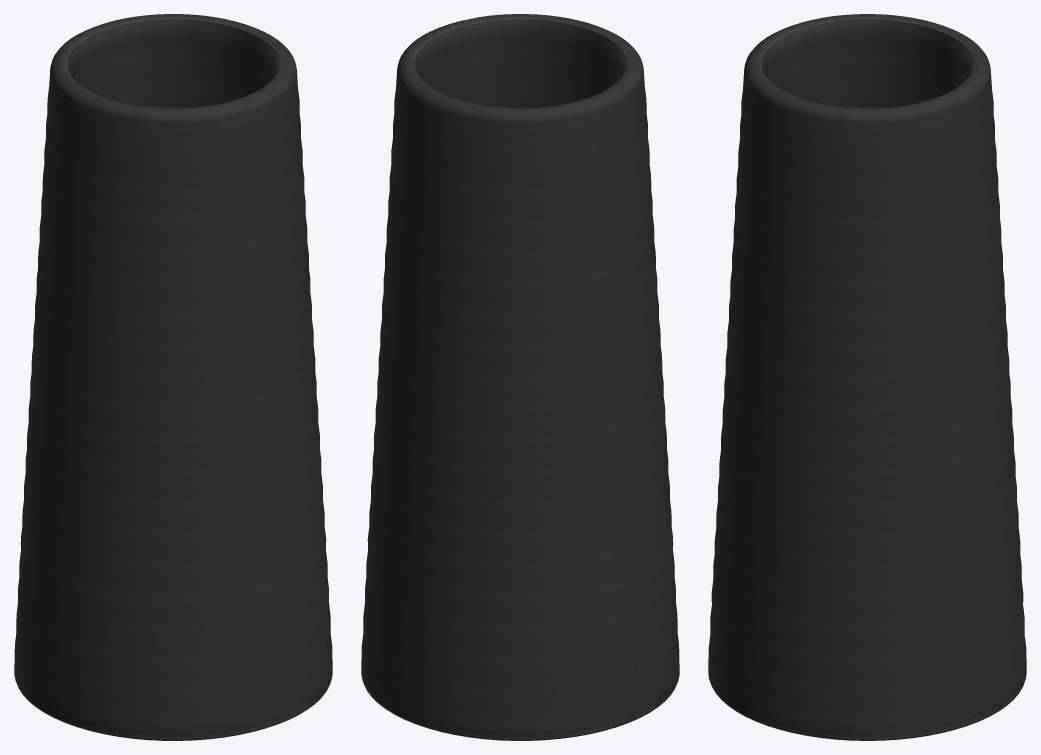
3 views of the same model, side by side, from view 1: azimuth 30°, elevation 25°; view 2: azimuth 150°, elevation 25°; view 3: azimuth 270°, elevation 25° (orthographic).
Visible parts, largest first — view 1: RootNode; view 2: RootNode; view 3: RootNode.
Boxes of the visible parts, x1,y1,x2,y2 form: RootNode: (14, 14, 332, 740); RootNode: (361, 14, 679, 740); RootNode: (708, 14, 1026, 740).
Size of the model in its own units: 0.1365 by 0.2894 by 0.1365.
1 material, 1 textured.
